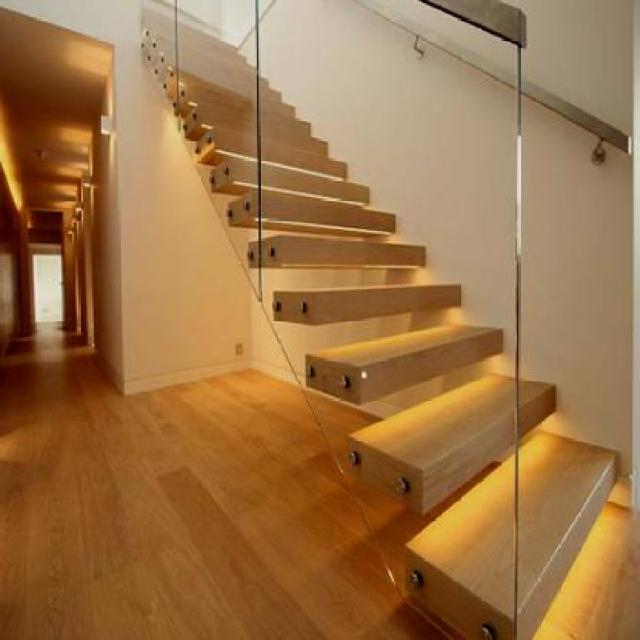stair: (133, 0, 639, 638)
